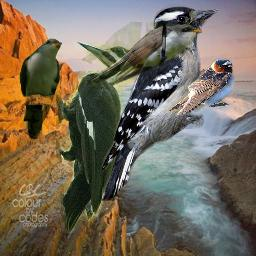Cuckoo: (82, 22, 202, 85), (19, 38, 62, 139)
Swallow: (168, 58, 235, 117)
Woodpecker: (100, 3, 219, 203), (56, 42, 153, 233)
